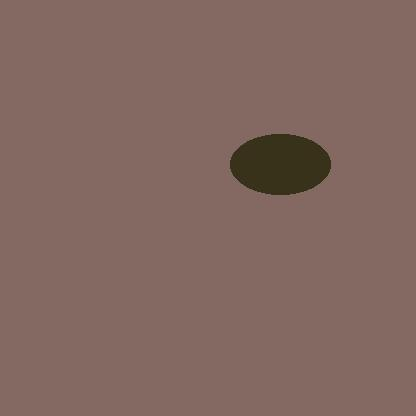pothole: (230, 134, 330, 194)
